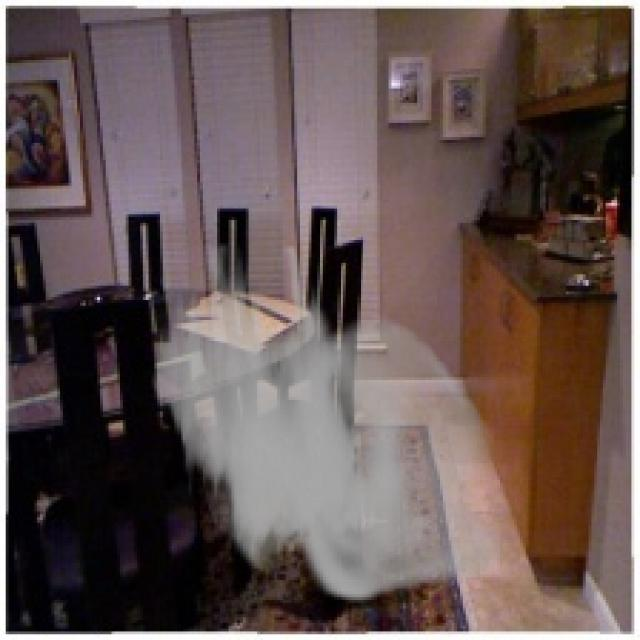smoke: (148, 243, 503, 603)
